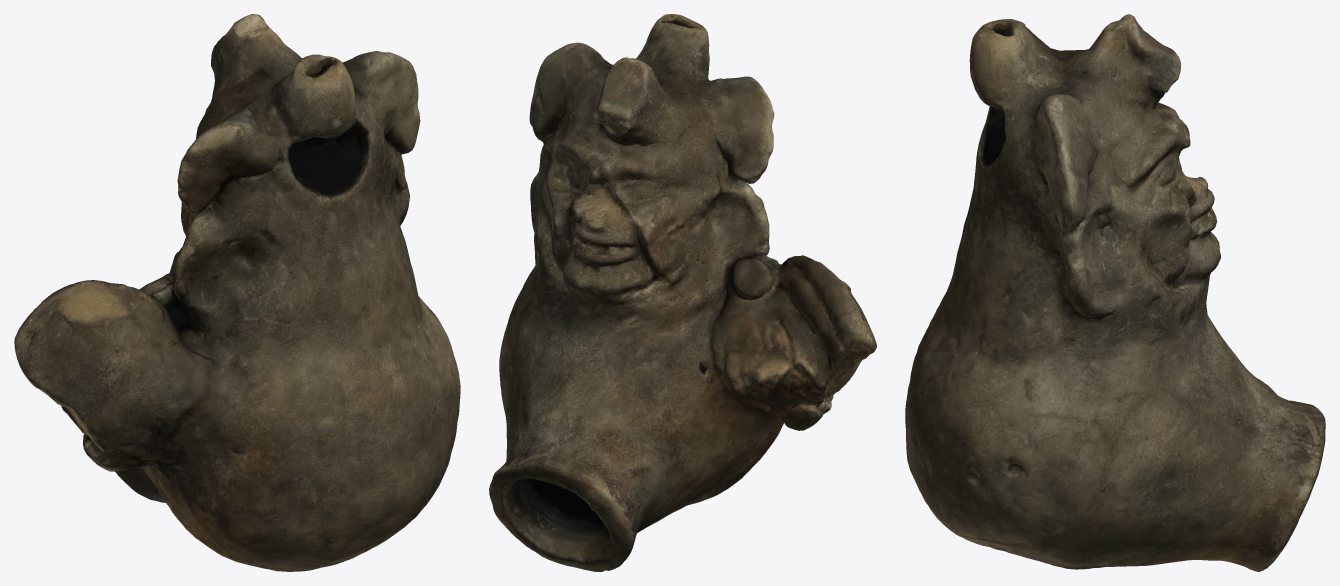
3 renders of one model, left to right at view 1: azimuth 30°, elevation 25°; view 2: azimuth 150°, elevation 25°; view 3: azimuth 270°, elevation 25°, orthographic. The views are drawn at different scales.
Parts seen in each view (by area): view 1: Mesh_0.011; view 2: Mesh_0.011; view 3: Mesh_0.011.
Boxes of the visible parts, x1,y1,x2,y2 form: Mesh_0.011: [14, 14, 460, 571]; Mesh_0.011: [489, 14, 876, 571]; Mesh_0.011: [905, 14, 1325, 571].
Bounding box in the file's own units: 0.1793 × 0.2196 × 0.1541.
Materials: 1 (1 with a texture image).
